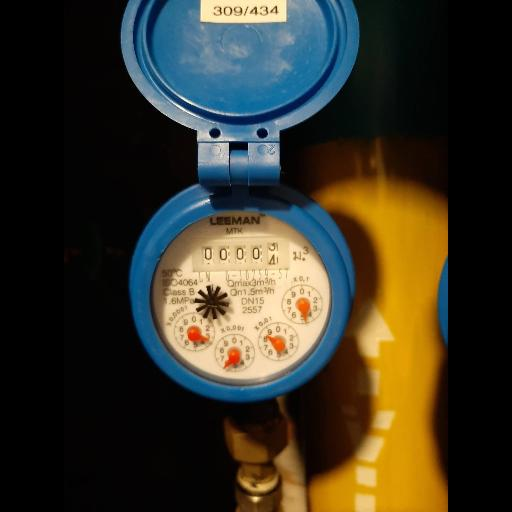0: (250, 244, 262, 264), (218, 245, 230, 264), (235, 244, 246, 264), (203, 246, 214, 265)
4: (267, 242, 280, 267)
border_water_meter_number: (191, 236, 290, 273)
